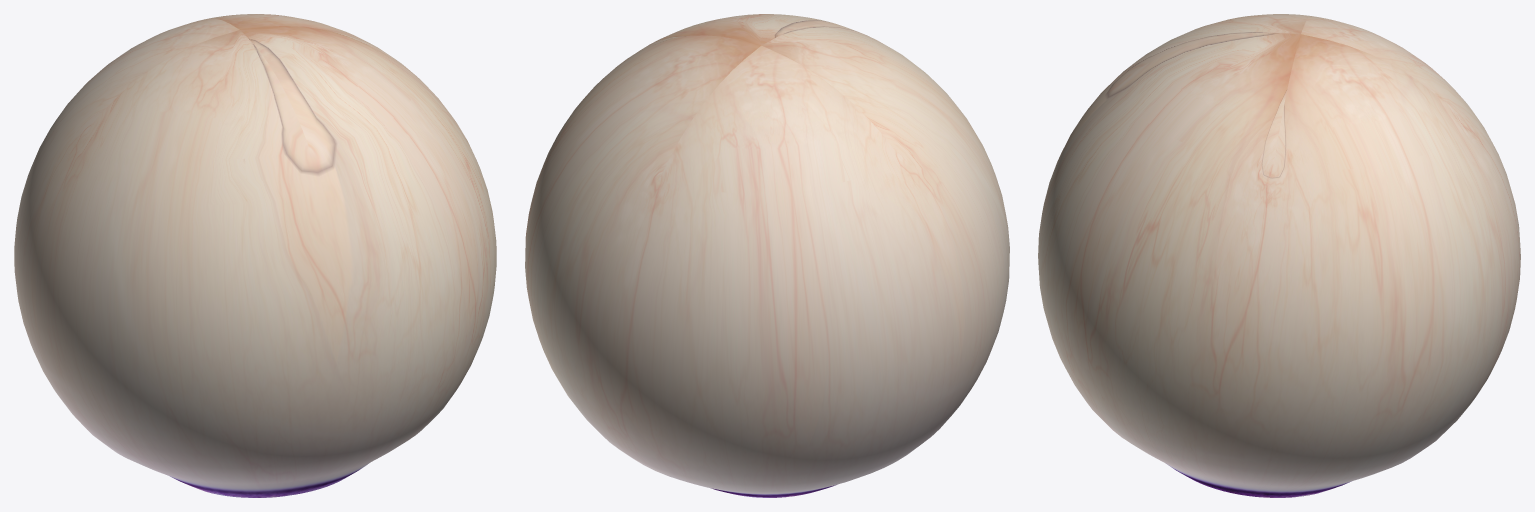
File: eyes.glb
The picture shows the model from 3 angles, left to right: view 1: azimuth 30°, elevation 25°; view 2: azimuth 150°, elevation 25°; view 3: azimuth 270°, elevation 25°; orthographic projection.
Parts seen in each view (by area): view 1: CuteEye_L; view 2: CuteEye_L; view 3: CuteEye_L.
Boxes of the visible parts, bbox=[...] form: CuteEye_L: bbox=[14, 14, 496, 497]; CuteEye_L: bbox=[525, 14, 1009, 497]; CuteEye_L: bbox=[1038, 14, 1520, 497].
Size of the model in its own units: 0.0216 by 0.0217 by 0.0216.
1 material, 1 textured.
